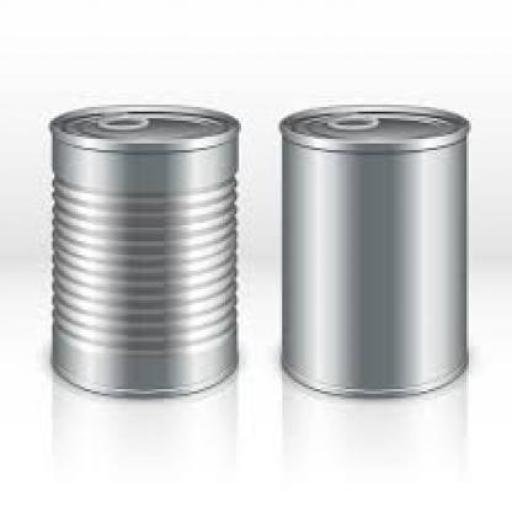metal: (277, 104, 469, 398), (47, 105, 237, 396)
